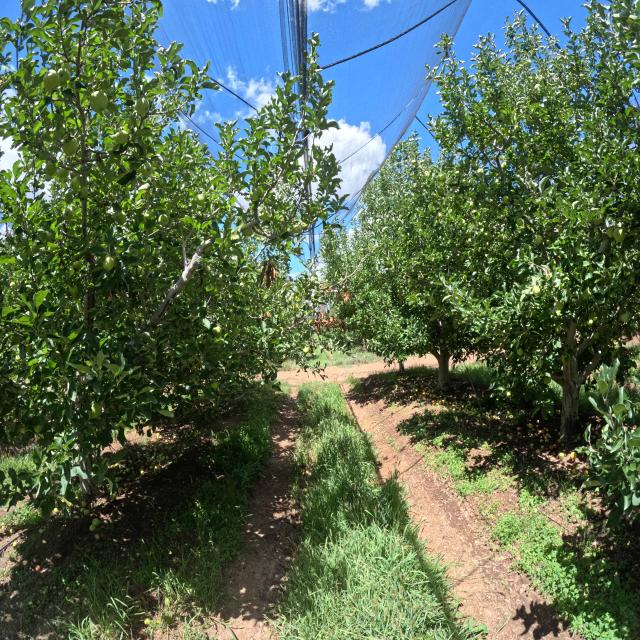-FireBlight-: (311, 307, 347, 333), (259, 256, 281, 291), (335, 288, 351, 305), (323, 286, 333, 296)
